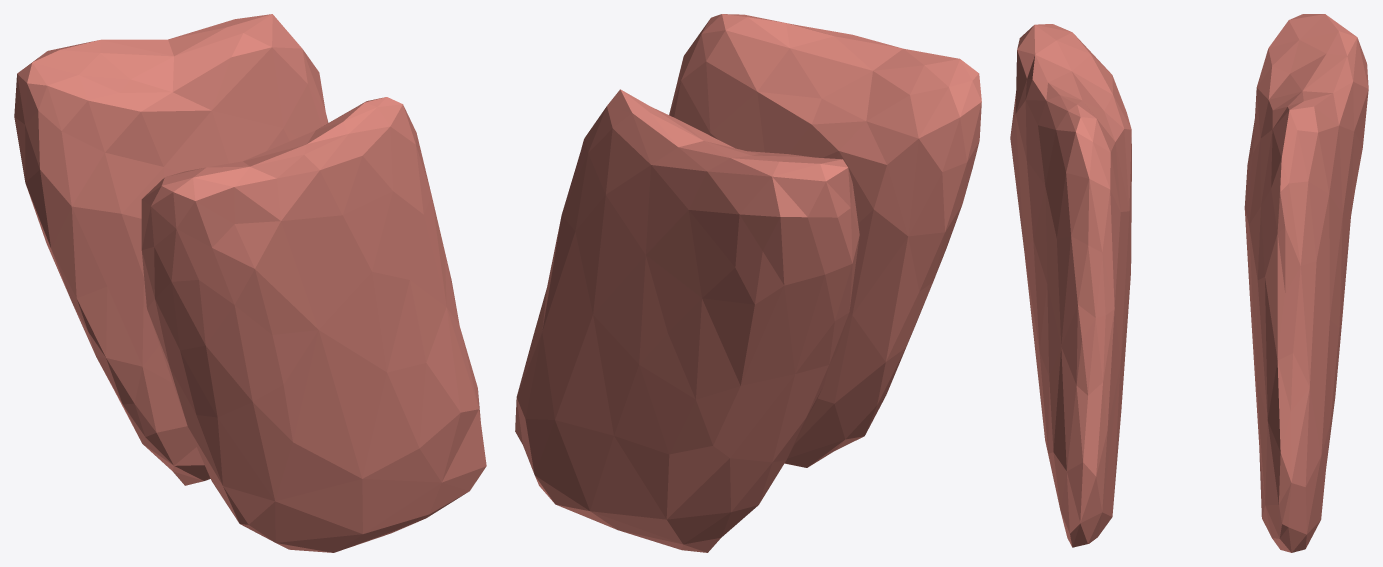
3 renders of one model, left to right at view 1: azimuth 30°, elevation 25°; view 2: azimuth 150°, elevation 25°; view 3: azimuth 270°, elevation 25°, orthographic. The views are drawn at different scales.
Visible parts, largest first — view 1: 347.obj; view 2: 347.obj; view 3: 347.obj.
Boxes of the visible parts, left/top/right/bottom form: 347.obj: left=14, top=14, right=486, bottom=552; 347.obj: left=515, top=14, right=981, bottom=552; 347.obj: left=1010, top=14, right=1368, bottom=552.
Size of the model in its own units: 619 by 751 by 564.
